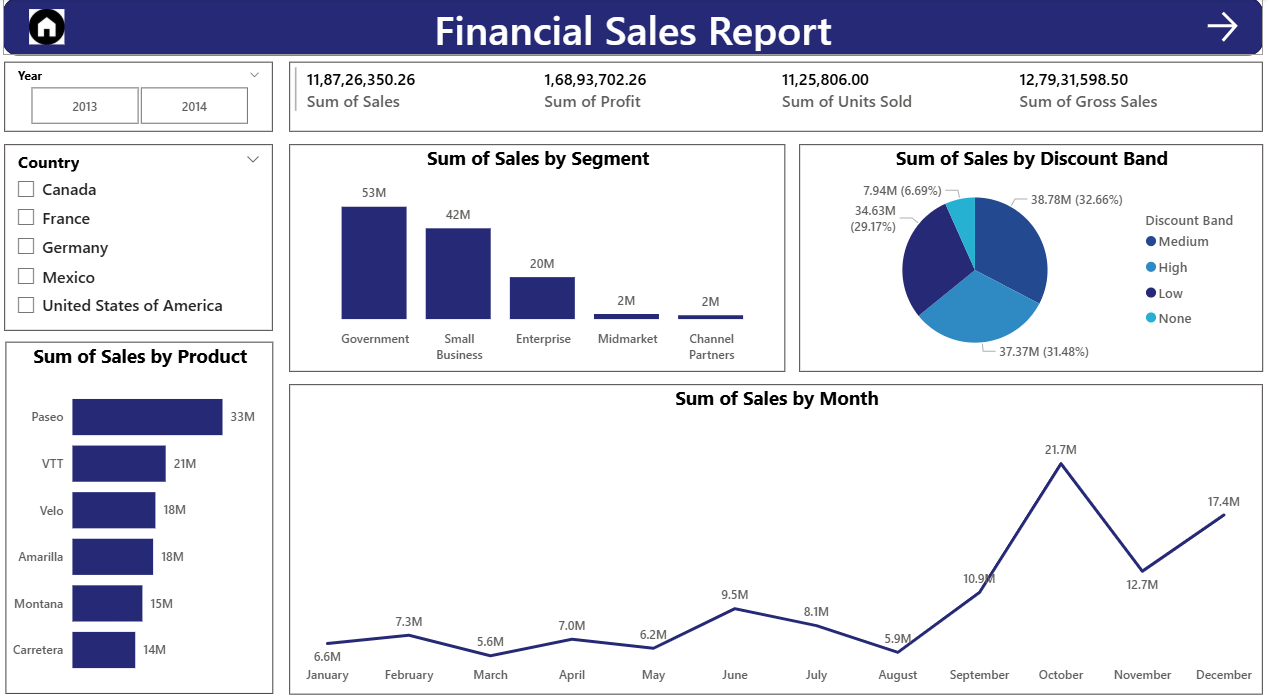

What the dashboard file says about the page in this screenshot:
{"tool":"powerbi","page":{"name":"Sales Report","canvas":[1280,720],"ordinal":1},"visuals":[{"type":"shape","box":[10,0,1253.9,57.2],"z":0},{"type":"multiRowCard","fields":{"Values":["Sum(financials.Sales)","Sum(financials.Profit)","Sum(financials.Units Sold)","Sum(financials.Gross Sales)"]},"box":[294.8,63.4,969,69.7],"z":1000},{"type":"slicer","fields":{"Values":["financials.Country"]},"box":[11.2,145.5,267.5,185.3],"z":2000},{"type":"slicer","fields":{"Values":["financials.Year"]},"box":[11.2,63.4,267.5,69.7],"z":3000},{"type":"barChart","fields":{"Category":["financials.Product"],"Y":["Sum(financials.Sales)"]},"box":[12.4,342.1,266.2,350.8],"z":4000},{"type":"columnChart","fields":{"Category":["financials.Segment"],"Y":["Sum(financials.Sales)"]},"box":[294.8,145.5,493.9,226.4],"z":5000},{"type":"pieChart","fields":{"Category":["financials.Discount Band"],"Y":["Sum(financials.Sales)"]},"box":[802.4,145.5,461.5,226.4],"z":6000},{"type":"lineChart","fields":{"Category":["financials.Date.Variation.Date Hierarchy.Month"],"Y":["Sum(financials.Sales)"]},"box":[294.8,384.4,969,308.5],"z":7000},{"type":"image","box":[31.1,6.2,44.8,44.8],"z":8000},{"type":"actionButton","box":[1202.9,8.7,41.1,39.8],"z":9000}]}

Visuals, with their boxes in screenshot pixels (x1, y1, x2, y2), scaled from the page's 1280x720 canvas onto the 1267x696 screenshot:
shape: (left=10, top=0, right=1251, bottom=55)
multiRowCard - Sum(financials.Sales) x Sum(financials.Profit): (left=292, top=61, right=1251, bottom=129)
slicer - financials.Country: (left=11, top=141, right=276, bottom=320)
slicer - financials.Year: (left=11, top=61, right=276, bottom=129)
barChart - financials.Product x Sum(financials.Sales): (left=12, top=331, right=276, bottom=670)
columnChart - financials.Segment x Sum(financials.Sales): (left=292, top=141, right=781, bottom=360)
pieChart - financials.Discount Band x Sum(financials.Sales): (left=794, top=141, right=1251, bottom=360)
lineChart - financials.Date.Variation.Date Hierarchy.Month x Sum(financials.Sales): (left=292, top=372, right=1251, bottom=670)
image: (left=31, top=6, right=75, bottom=49)
actionButton: (left=1191, top=8, right=1231, bottom=47)
